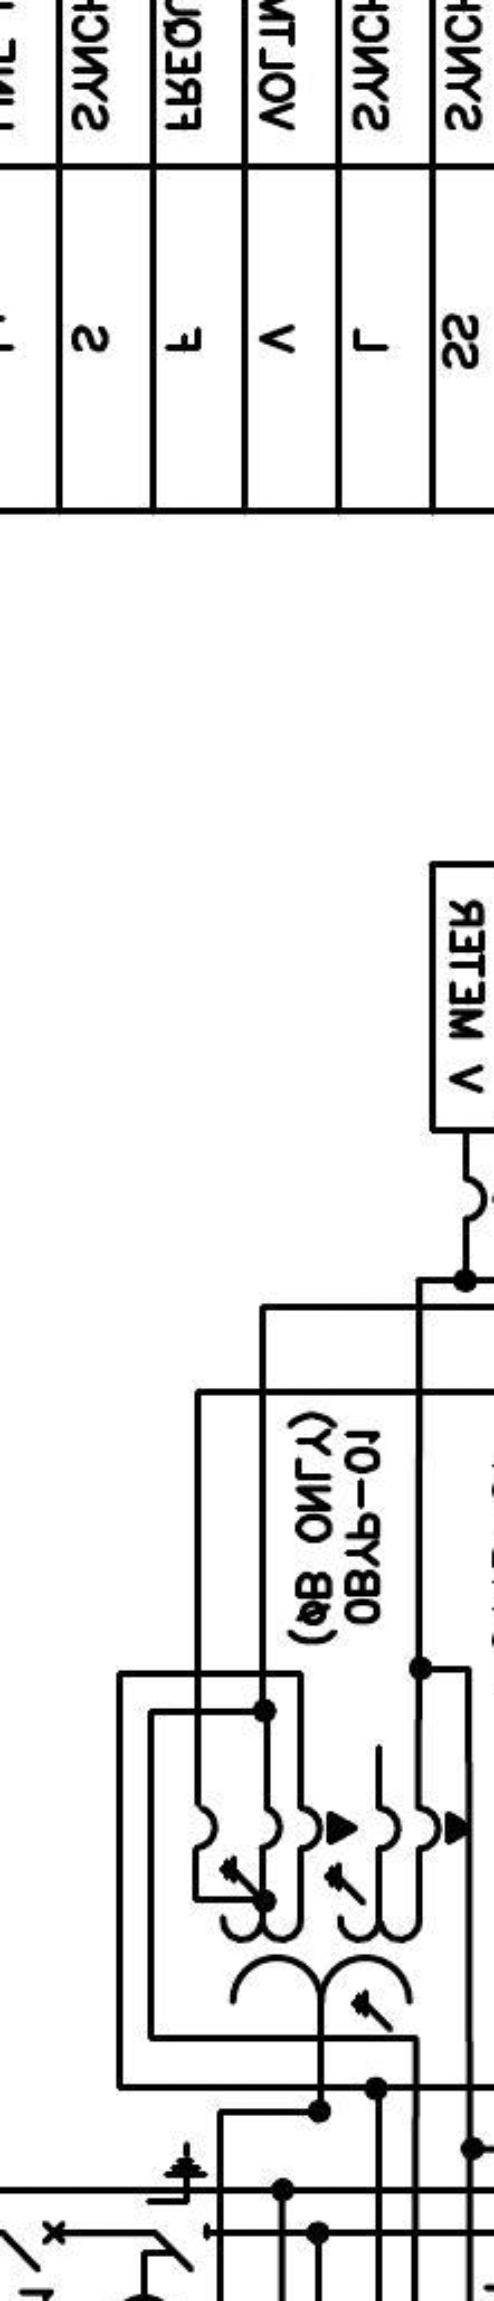115_vt_1p: (217, 1802, 472, 2034)
